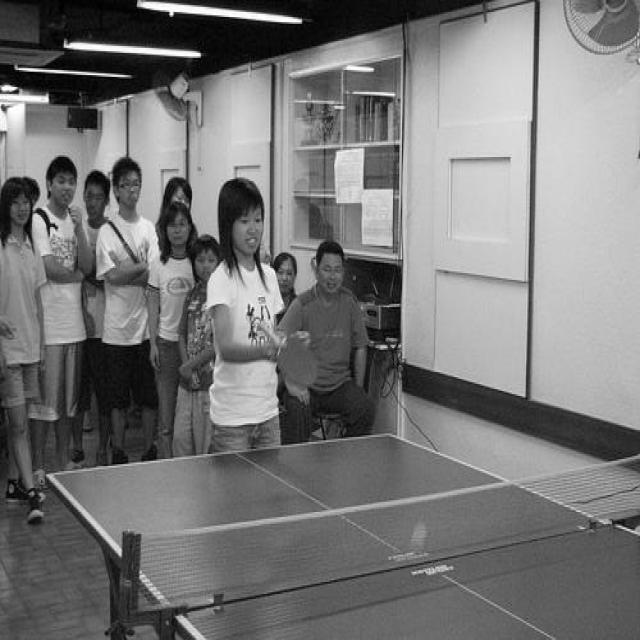ping-pong-ball: (411, 522, 429, 552)
